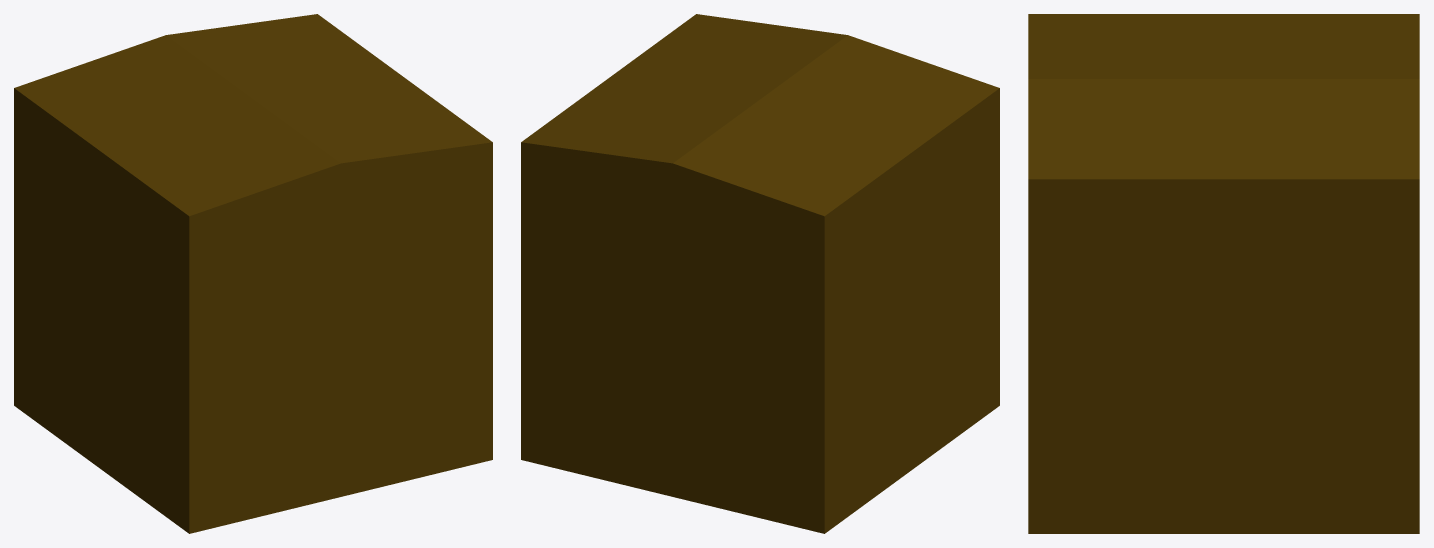
3 views of the same model, side by side, from view 1: azimuth 30°, elevation 25°; view 2: azimuth 150°, elevation 25°; view 3: azimuth 270°, elevation 25° (orthographic). The views are drawn at different scales.
Parts seen in each view (by area): view 1: box; view 2: box; view 3: box.
Part boxes in pixels (x1,y1,x2,y2): box: [14, 14, 492, 533]; box: [521, 14, 999, 533]; box: [1028, 14, 1419, 533].
Bounding box in the file's own units: 1.4 × 1.47 × 1.4.
